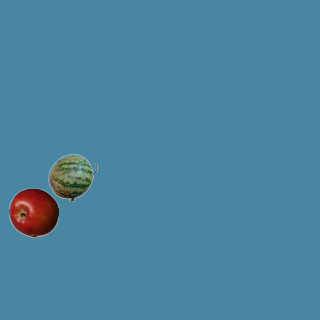Apple Braeburn: (8, 187, 58, 237)
Watermelon: (47, 152, 97, 202)
